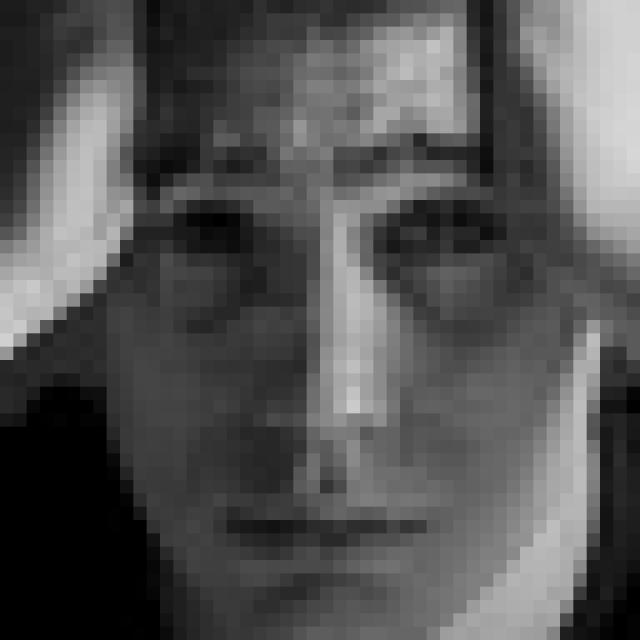sad: (139, 136, 519, 607)
